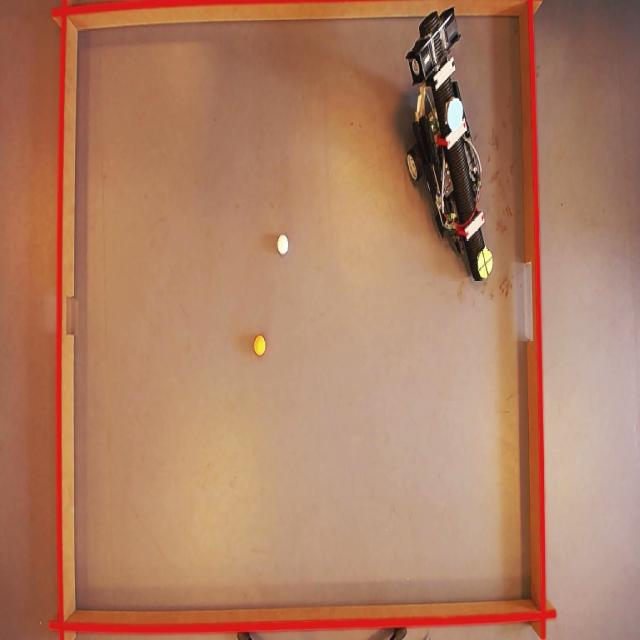orange: (254, 336, 268, 356)
robot: (405, 1, 494, 292)
robot-front: (477, 248, 494, 280)
robot-rear: (446, 99, 463, 131)
white: (276, 234, 288, 254)
